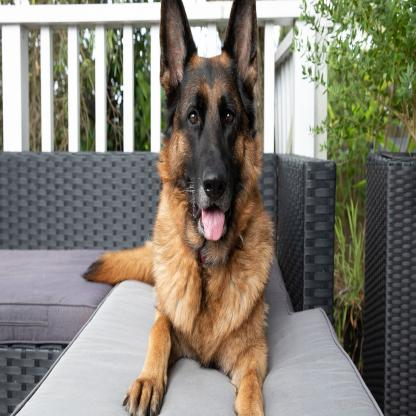dog: (72, 5, 280, 416)
